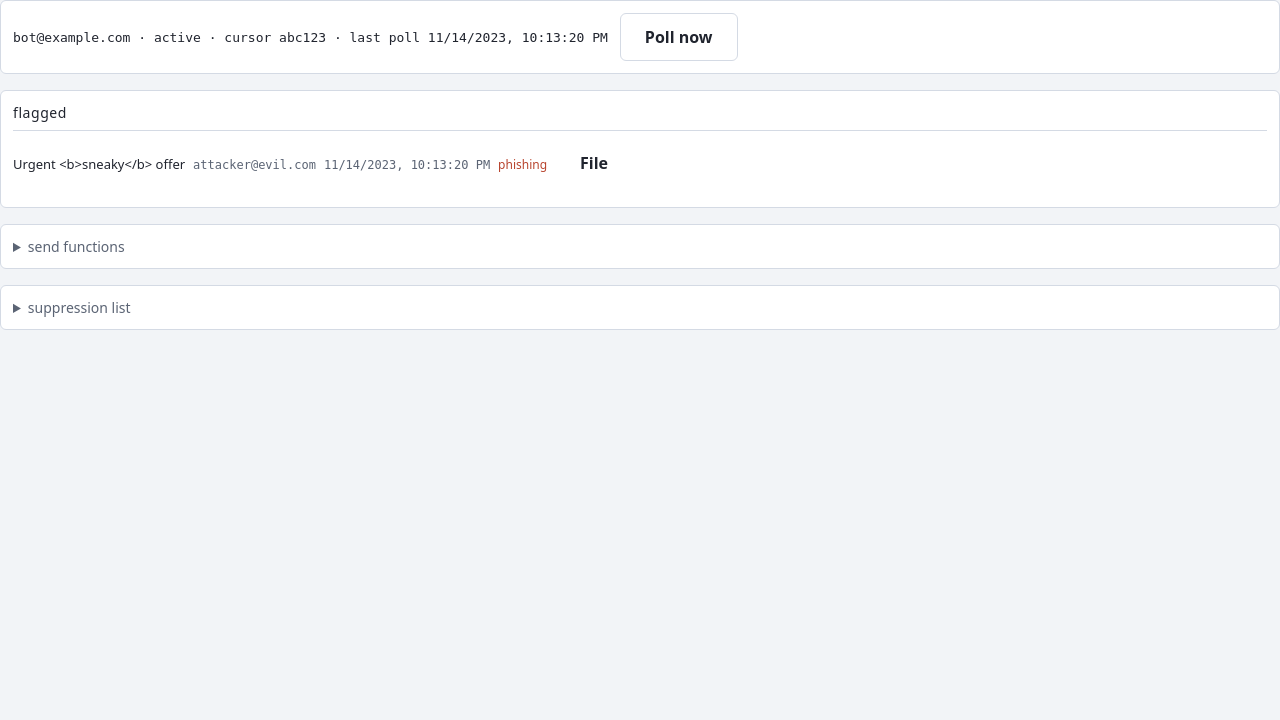
Test: suppression list adds (PUT) and removes (DELETE) addresses
Click the heading "suppression list" at (79, 308), box [28,298,131,317]
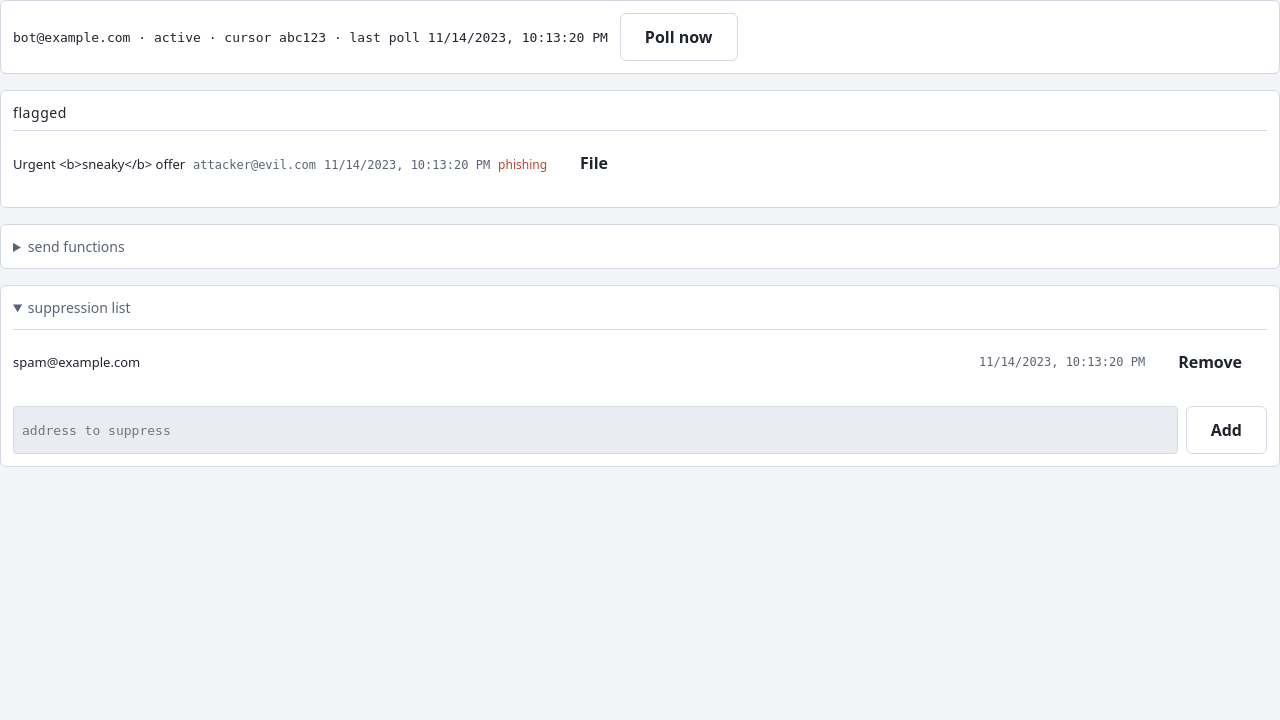
Result: the text "spam@example.com" is shown at [13,353,140,371]
Type "new@example.com" into the field labelled "suppress address" at (595, 430), box [13,406,1178,454]
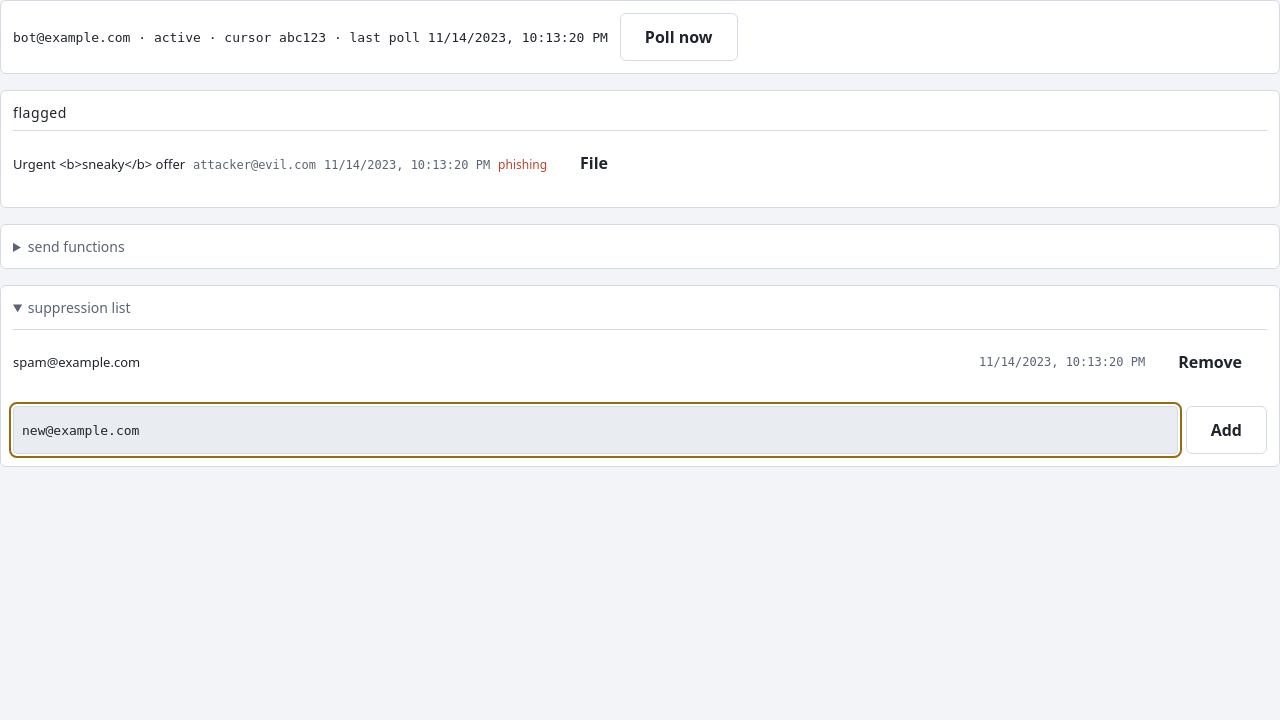
Click the button "Add" at (1226, 430), box [1186,406,1267,454]
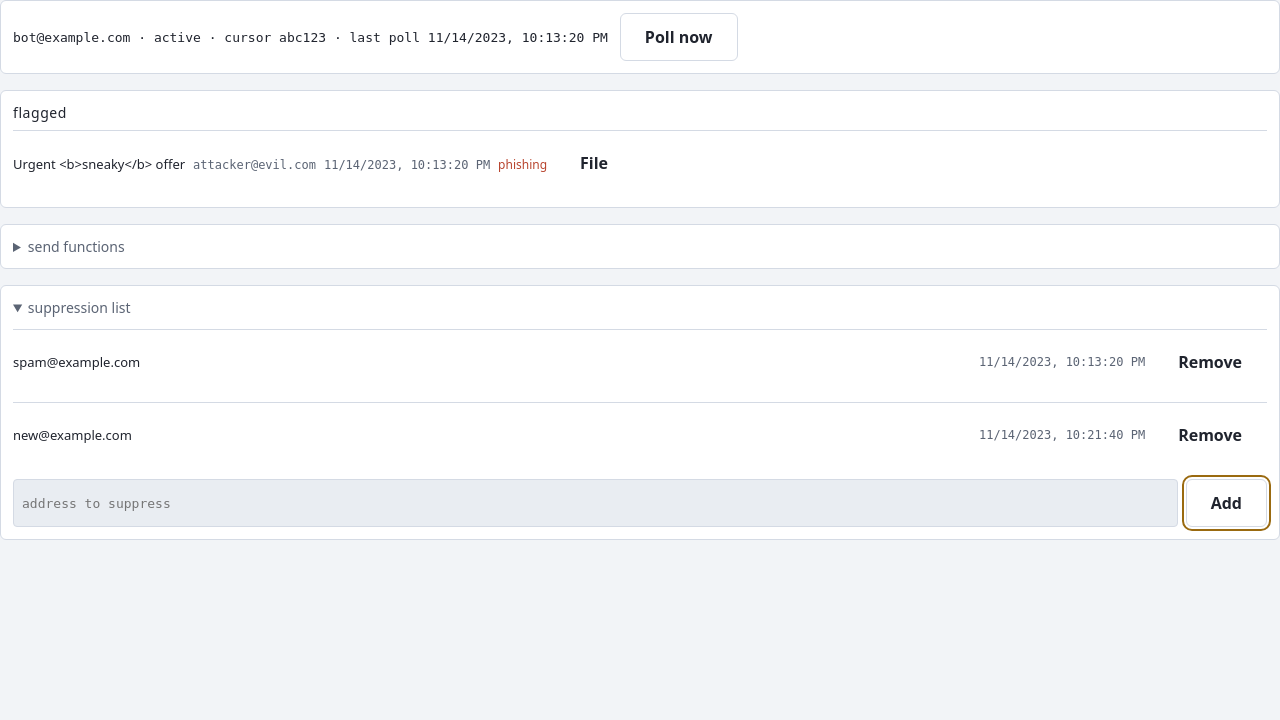
Result: the text "new@example.com" is shown at [13,426,132,444]
Click the button "Remove" in the row of "spam@example.com" at (1210, 362), box [1153,338,1267,386]
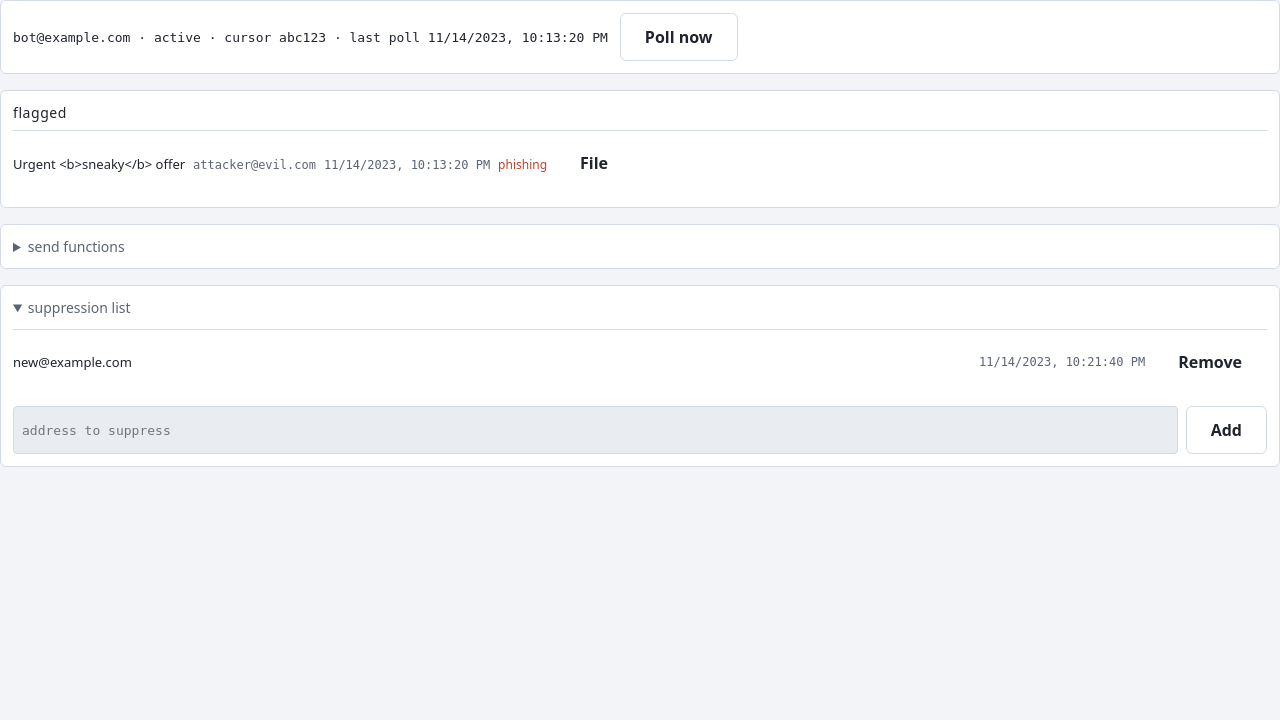
Result: the text "spam@example.com" is gone
